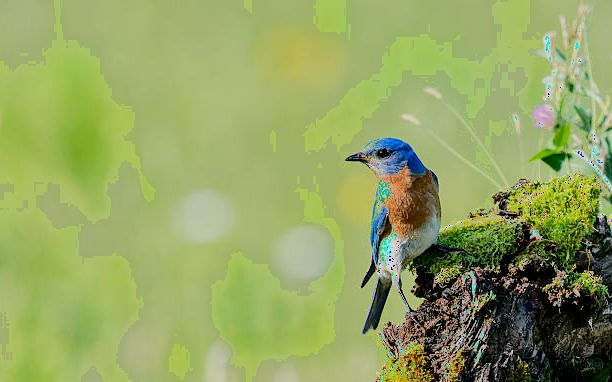Bird: (340, 134, 443, 339)
